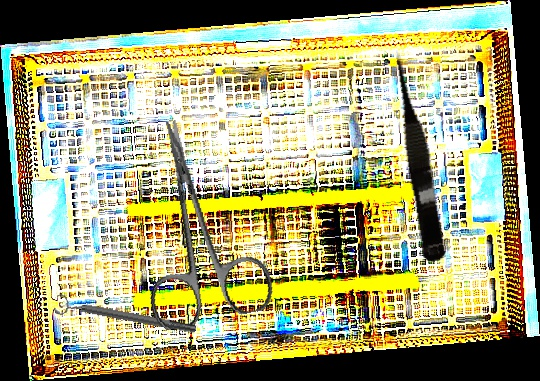Fixation Ring: (53, 291, 198, 342)
Iris Scissors: (114, 107, 278, 333)
Micro Scissor: (387, 46, 452, 264)
